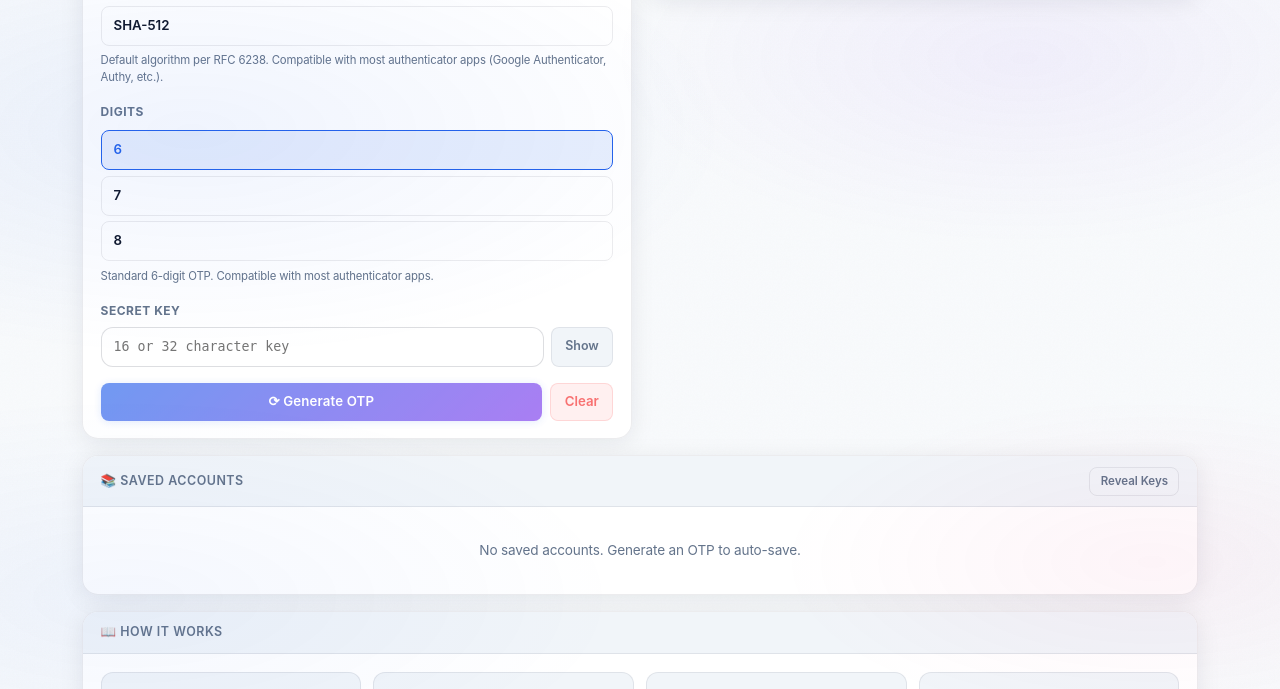
OtpGenerator Component › clear button resets the form
The image size is (1280, 689).
(page scrolled)
Type "JBSWY3DPEHPK3PXP" into the password field with placeholder "16 or 32 character key" at (322, 347), box top-left (101, 327), bottom-right (544, 367)
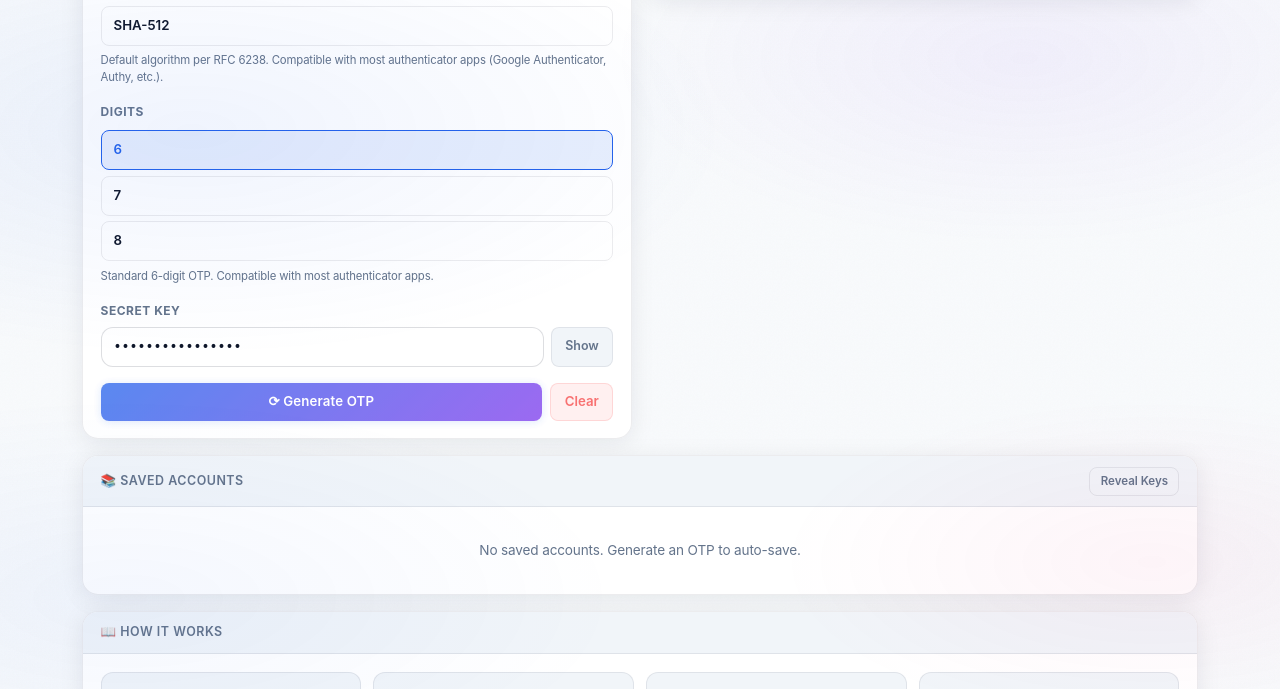
Click the button "Clear" at (582, 402), box top-left (550, 383), bottom-right (613, 421)
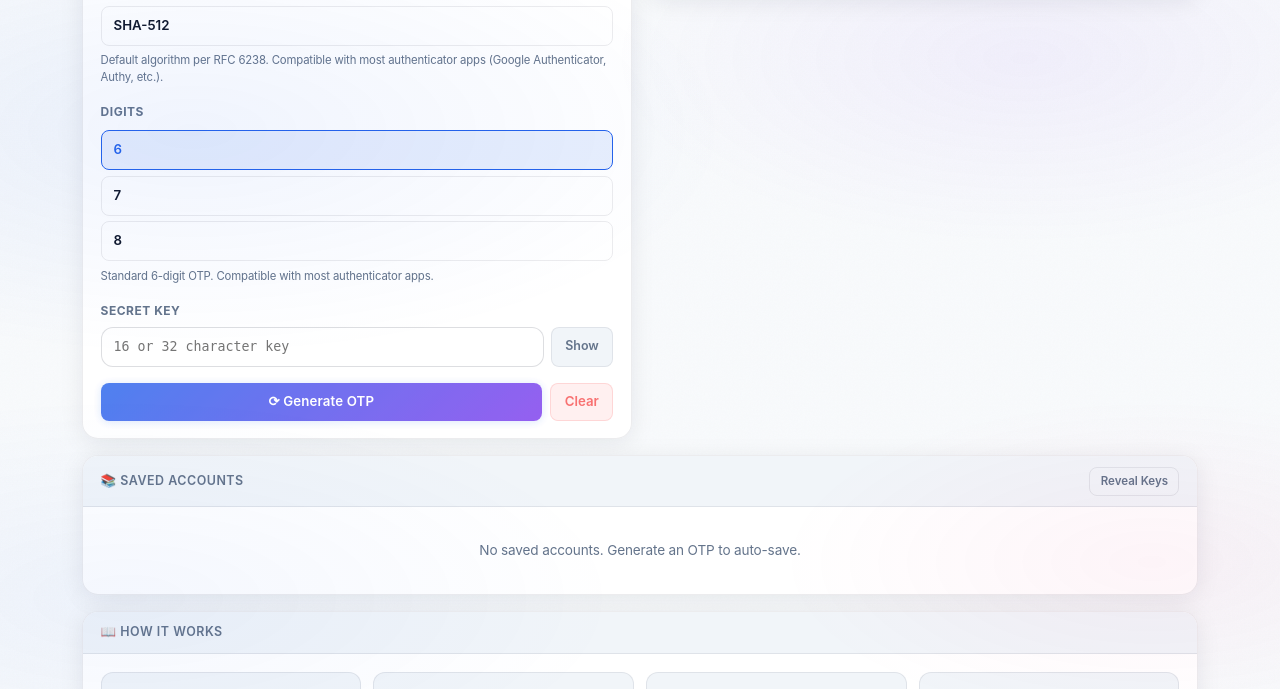
Check: the password field with placeholder "16 or 32 character key" is empty, box top-left (101, 327), bottom-right (544, 367)
